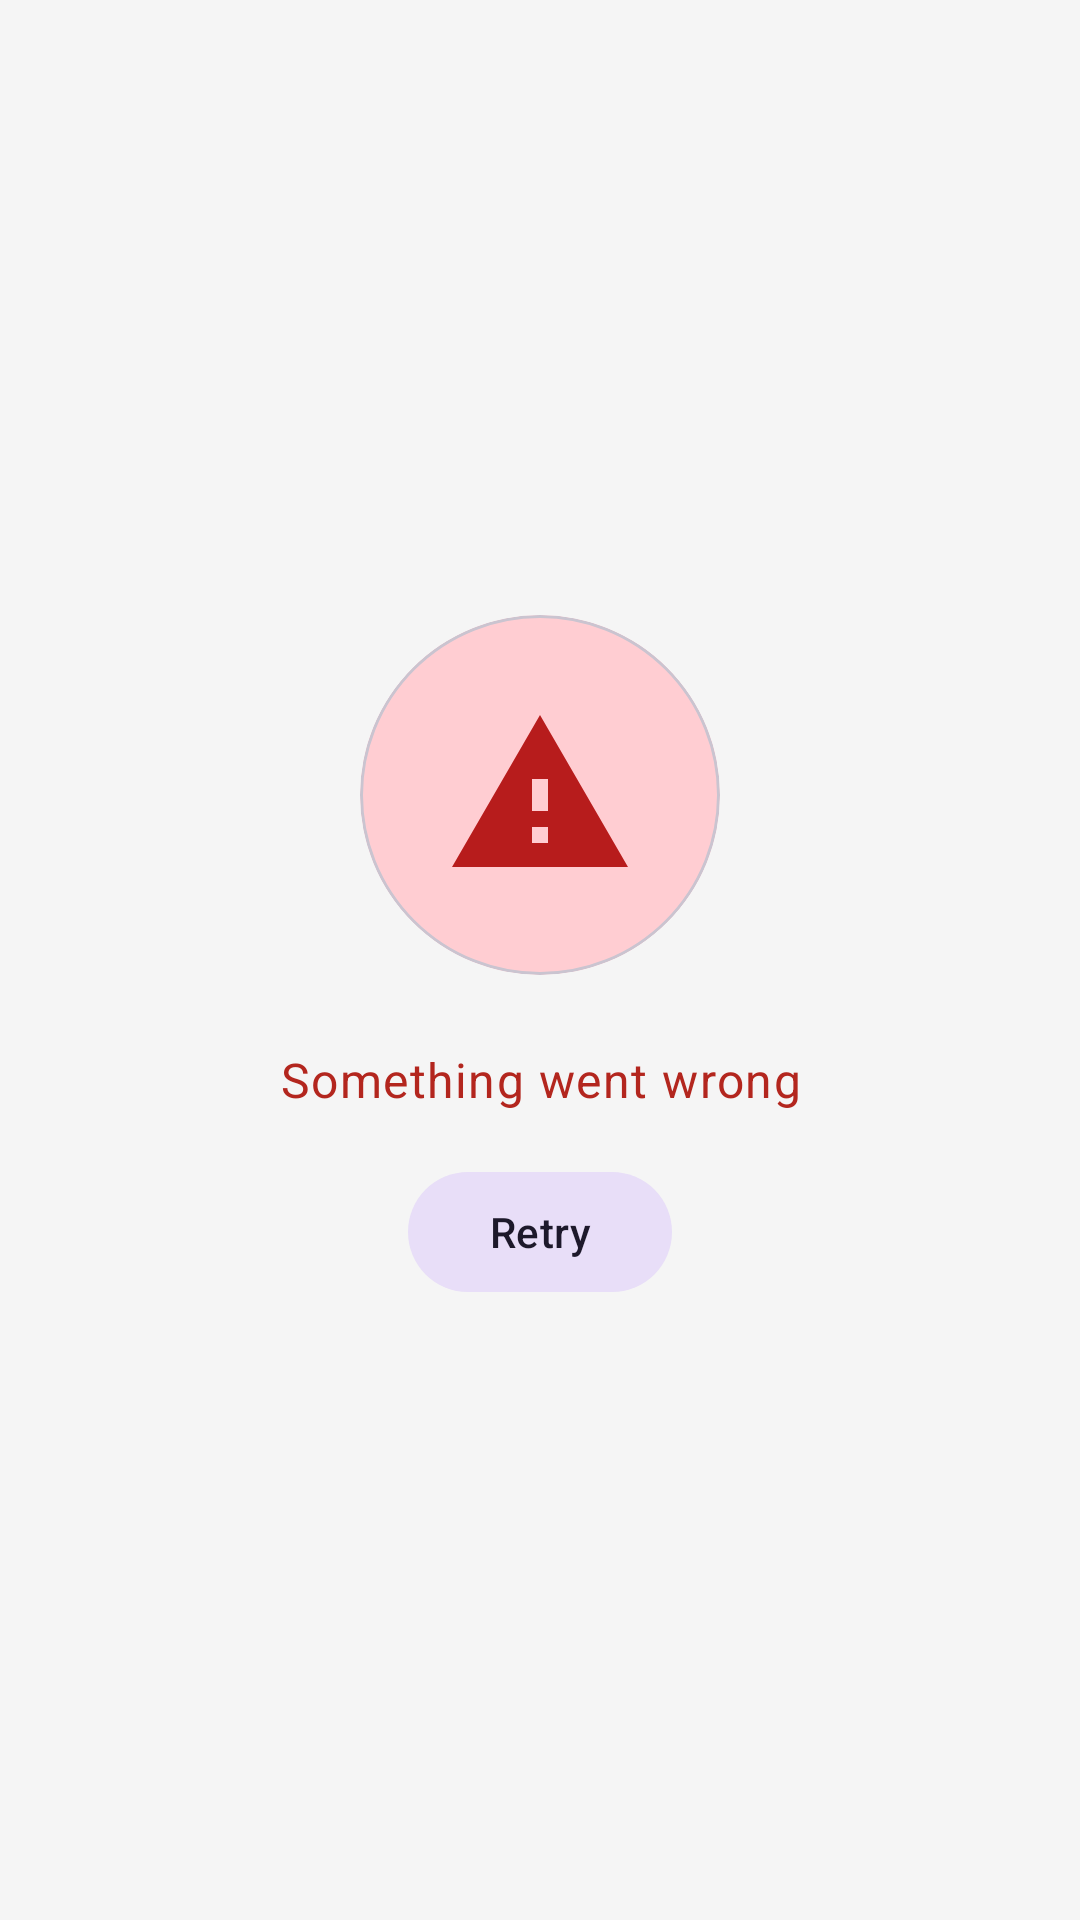

Point at icon controls on the screen. Image size 1080w x 1920h, points as point (x, y).
warning: point (540, 791)
